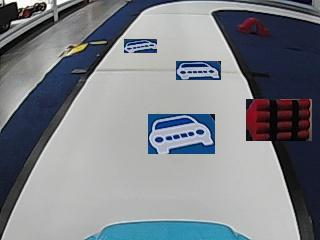bridge: (238, 16, 267, 35)
